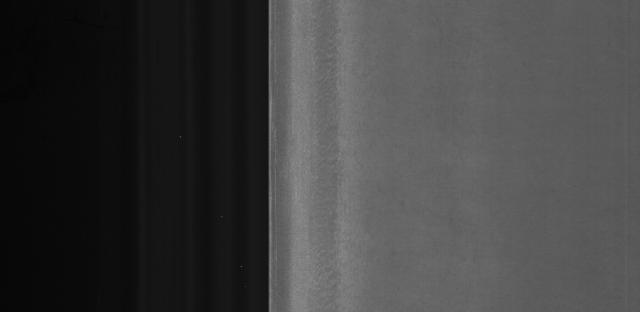silk_spot: (311, 132, 343, 293)
